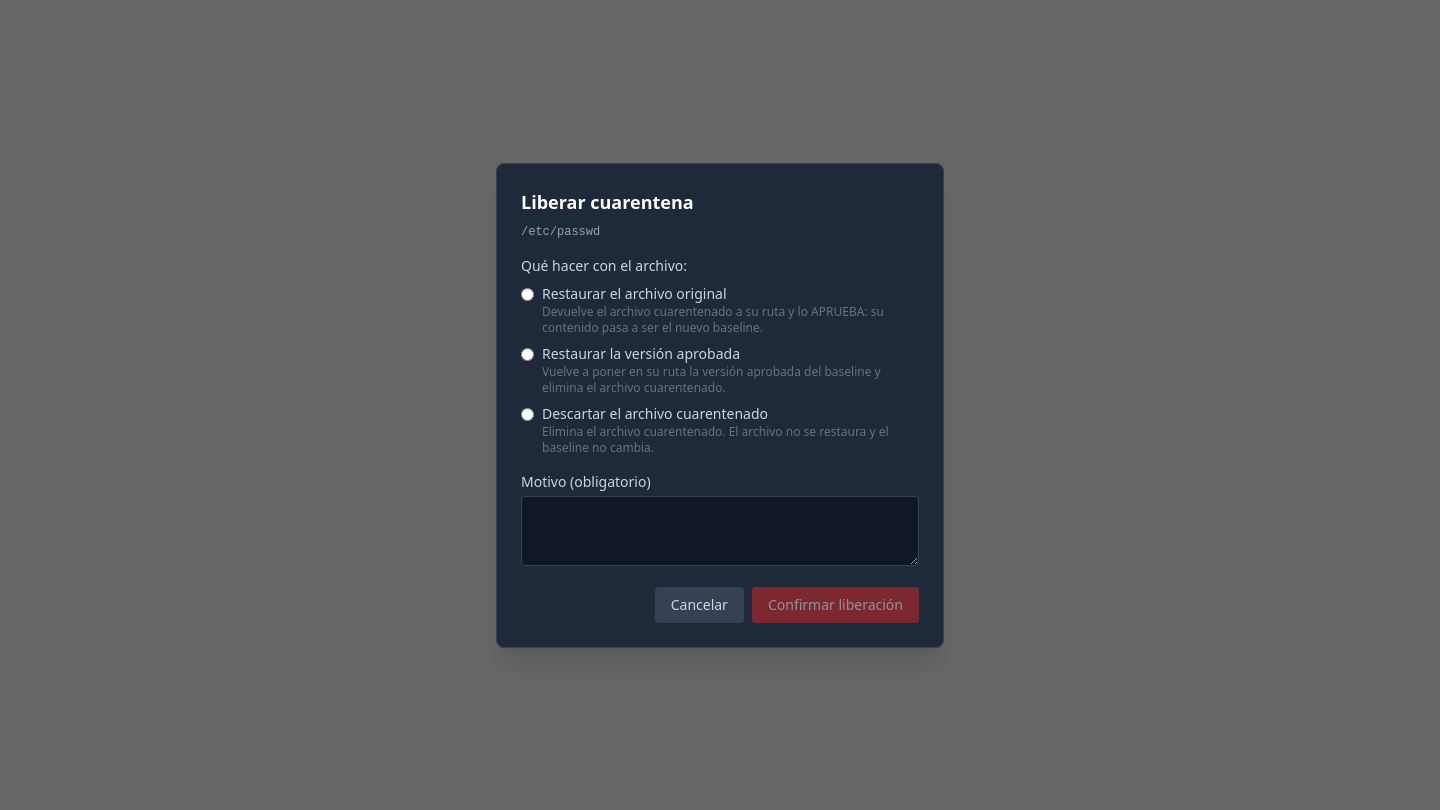
it: ReleaseQuarantineModal › advierte que restore_original aprueba, y sólo con ese modo
The width and height of the screenshot is (1440, 810).
Click the radio button labelled "Restaurar el archivo original" at coordinates (528, 294), box left=521, top=288, right=534, bottom=300
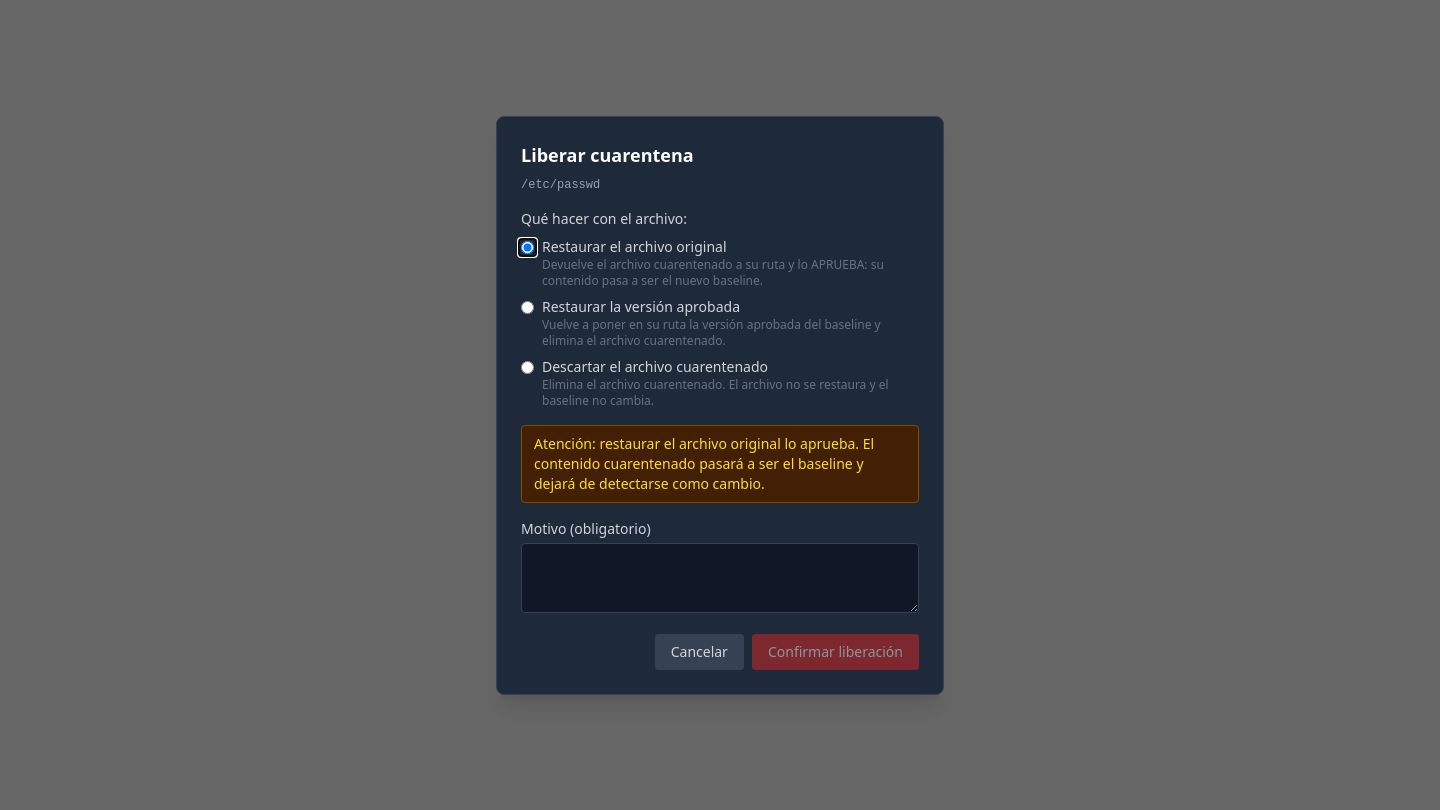
Expected: the message shows "lo aprueba", left=534, top=434, right=874, bottom=492
Click the radio button labelled "Descartar" at coordinates (528, 367), box left=521, top=360, right=534, bottom=374
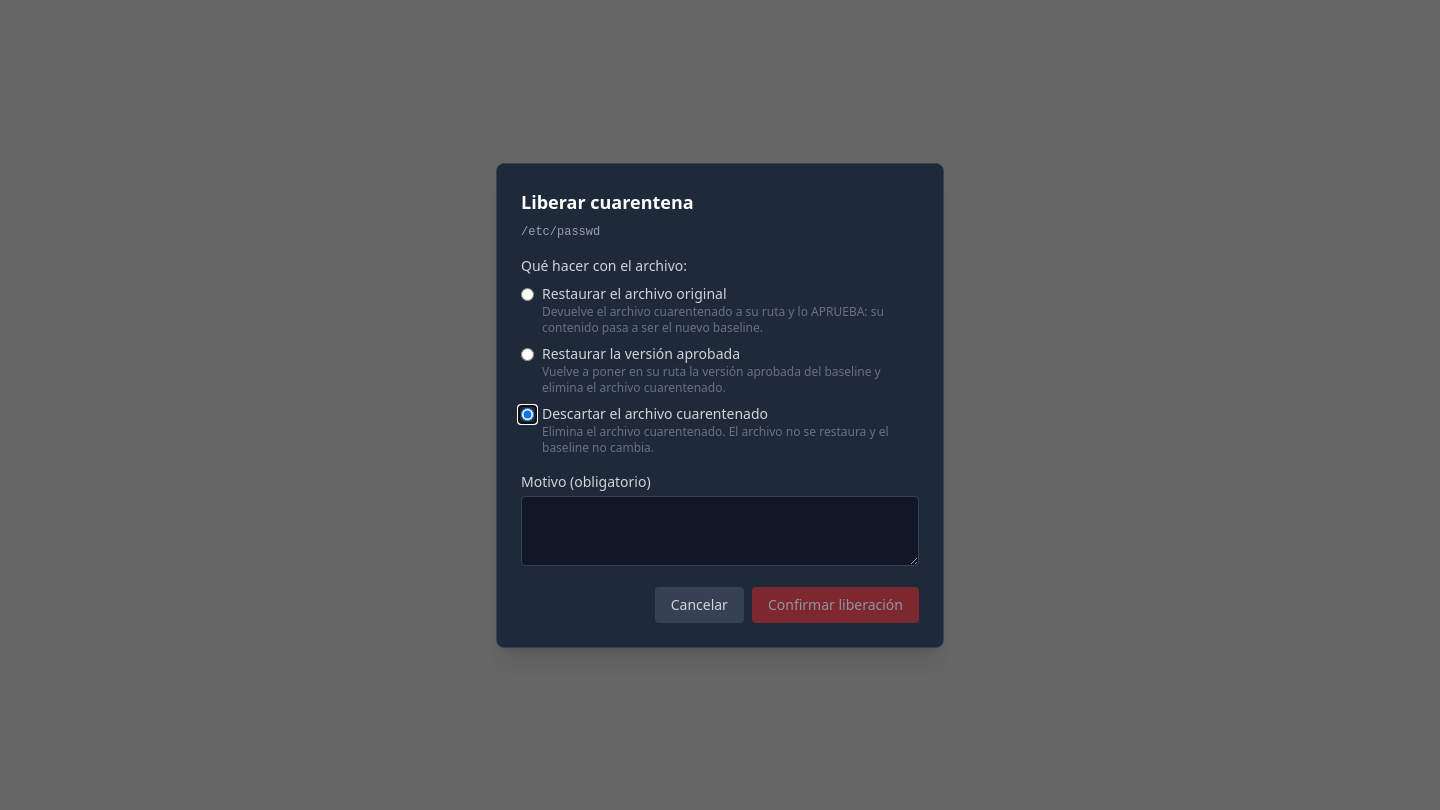
Expected: the message is gone
